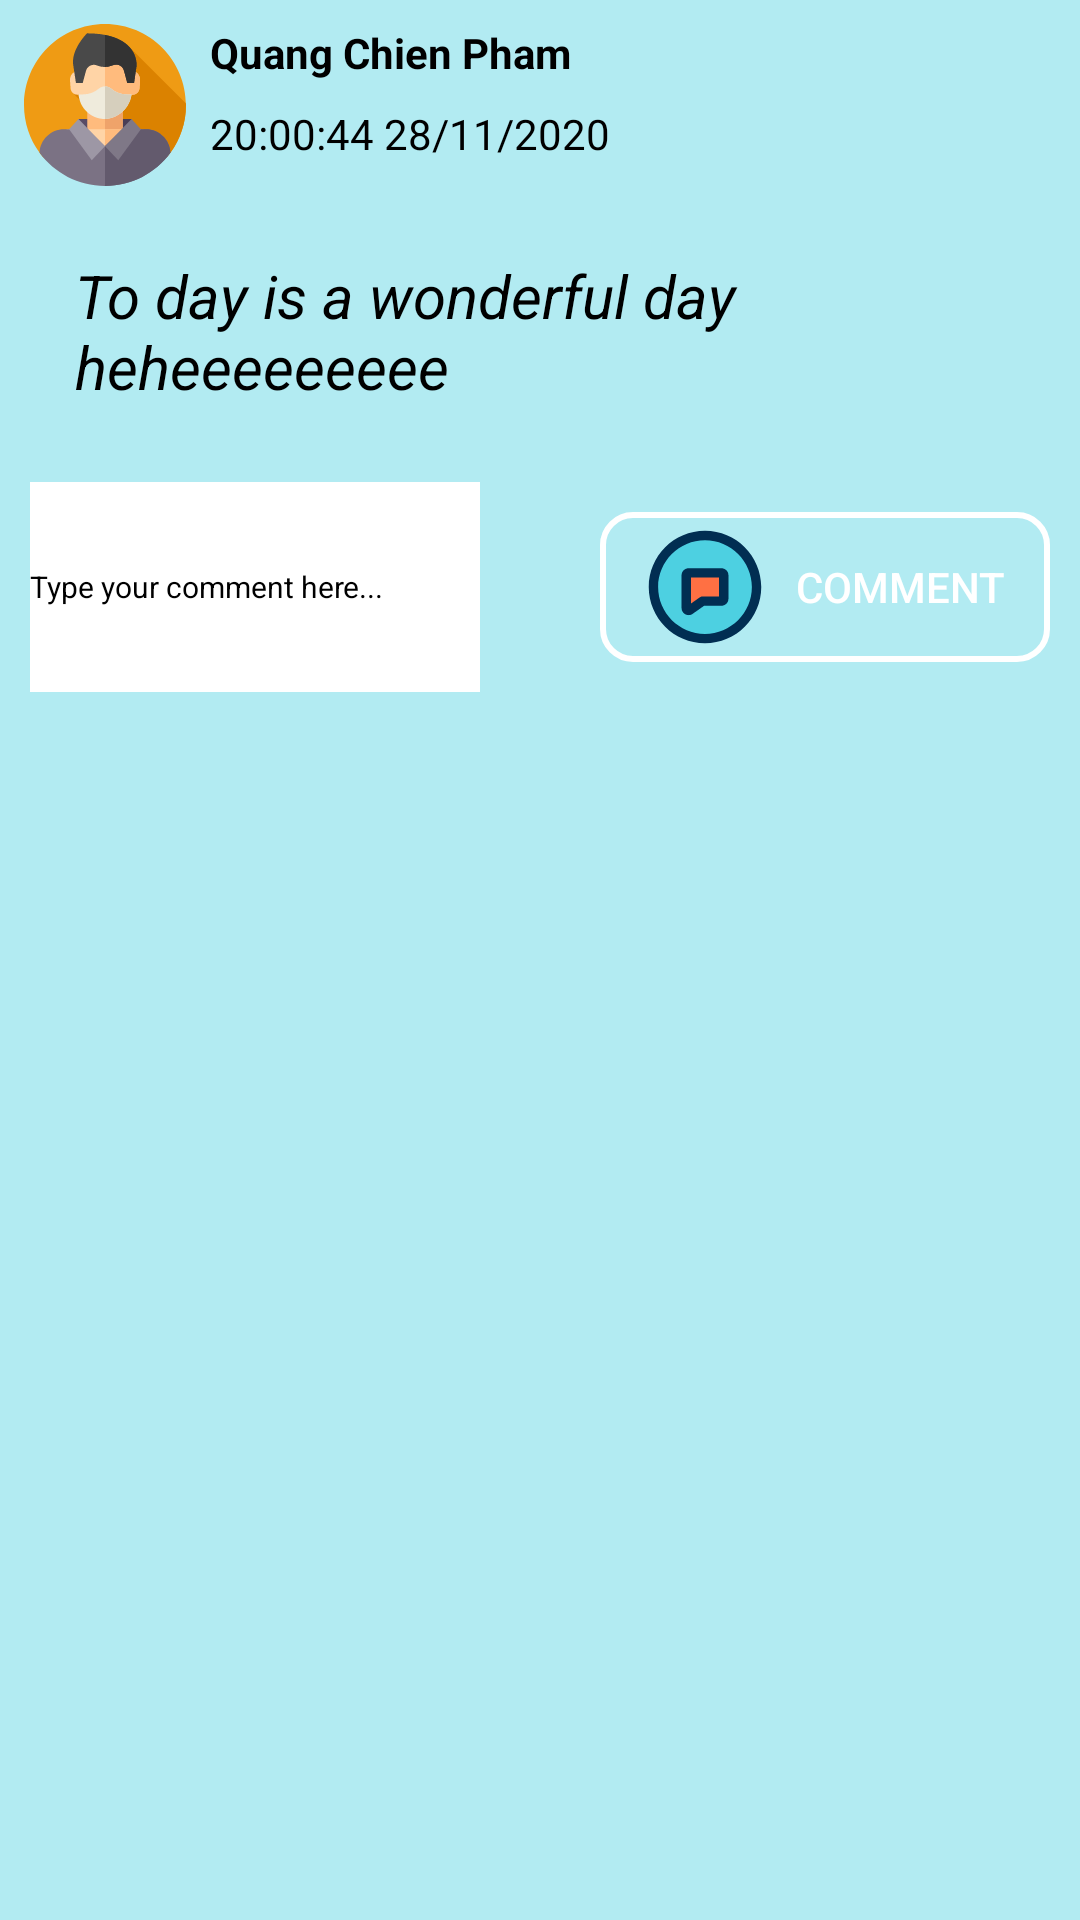

Where to tap for icons on this 1080x1920 app screen, as (x=x, y=y):
person: (x=105, y=105)
